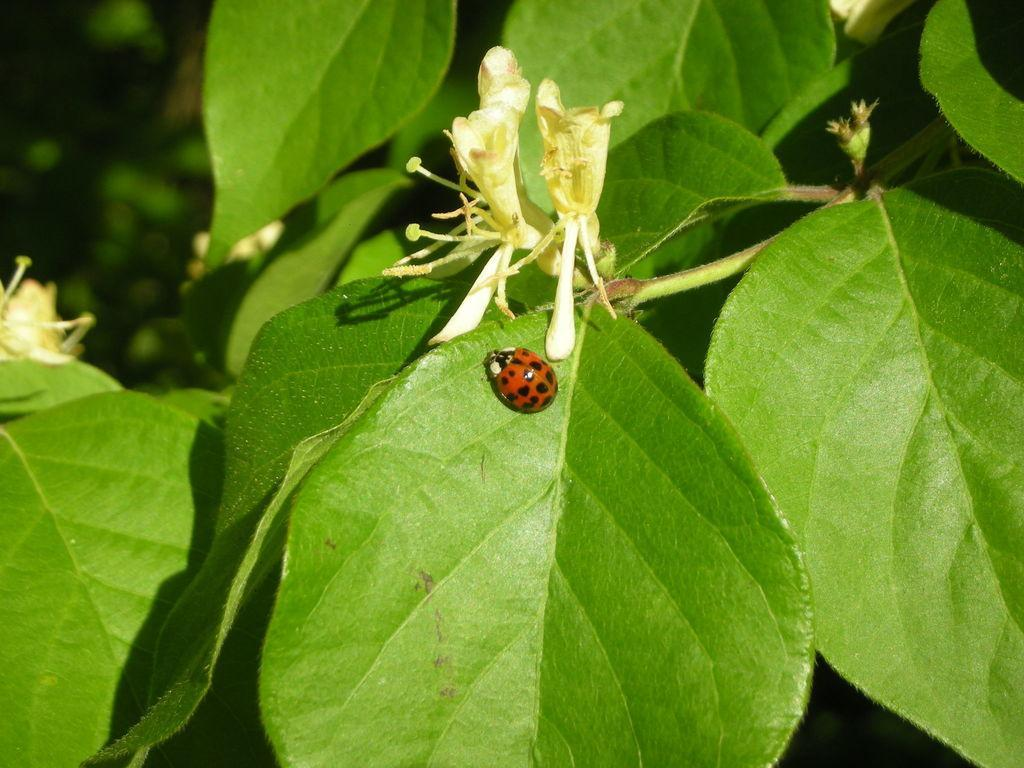ladybug: (479, 343, 563, 419)
